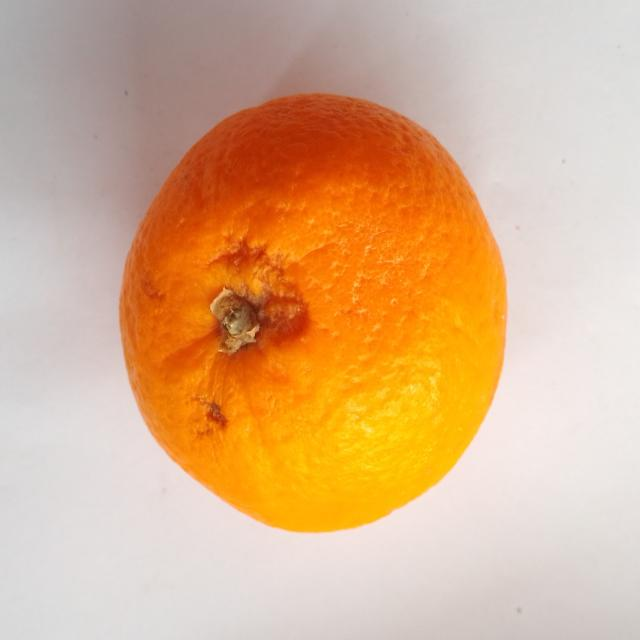orange: (121, 94, 505, 531)
